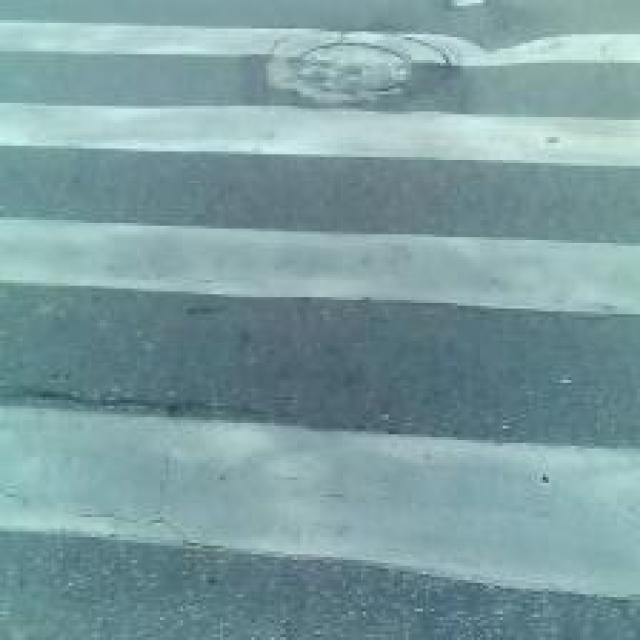obstacle: (29, 29, 640, 640)
